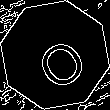O_NW: (23, 22, 87, 88)
